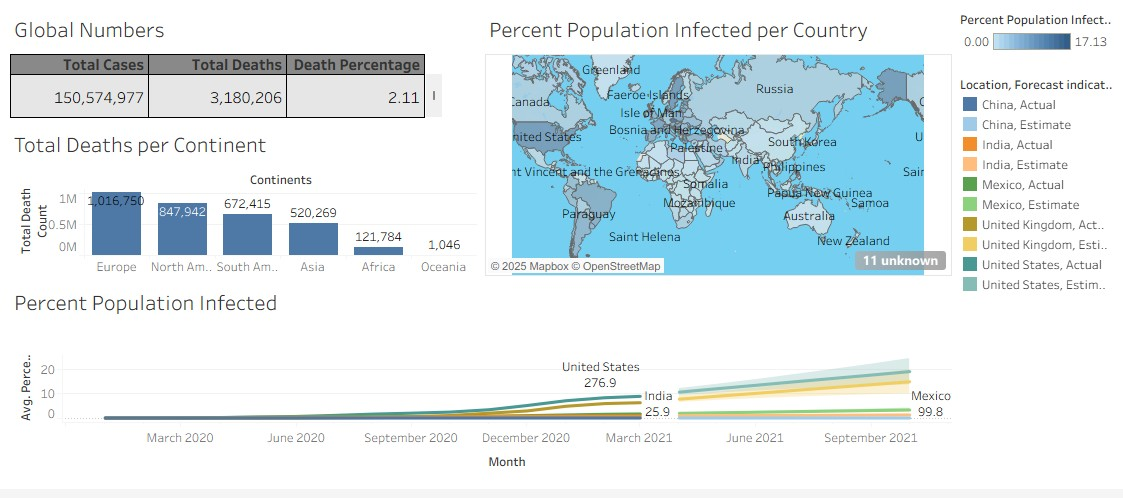

The page's visual inventory and layout, read from the dashboard file:
{"tool":"tableau","page":{"name":"Dashboard 1","canvas":[1000,1000],"units":"permille","ordinal":0},"visuals":[{"type":"worksheet","title":"Sheet 1","mark":"Automatic","box":[6.9,14.7,423.8,235.3]},{"type":"worksheet","title":"Sheet 3","mark":"Multipolygon","box":[430.7,14.7,423.8,558.8]},{"type":"legend","title":"Sheet 3","param":"[federated.0jggjub00u91es17qlxwb16posfy].[sum:PercentPopulationInfected:qk]","box":[854.5,14.7,138.5,119.5]},{"type":"legend","title":"Sheet 4","param":"[federated.1k078gp1vqqpc817vgb420793rjn].[none:Location:nk]\n[federated.1k078gp1v","box":[854.5,134.2,138.5,415.4]},{"type":"worksheet","title":"Sheet 2","mark":"Automatic","rows":["TotalDeathCount"],"cols":["location"],"box":[6.9,250,423.8,323.5]},{"type":"worksheet","title":"Sheet 4","mark":"Automatic","rows":["PercentPopulationInfected"],"cols":["date"],"box":[6.9,573.5,847.6,411.8]}]}

Visuals, with their boxes on the dashboard's canvas, which has no fixed pixel size, in thousandths of its width and height (x1, y1, x2, y2). These are canvas units, not pixel positions in the 1123x498 screenshot, which may show the page scaled, cropped or inside an application window:
"Sheet 1" worksheet: <bbox>7, 15, 431, 250</bbox>
"Sheet 3" worksheet (Multipolygon marks): <bbox>431, 15, 854, 574</bbox>
"Sheet 3" legend: <bbox>854, 15, 993, 134</bbox>
"Sheet 4" legend: <bbox>854, 134, 993, 550</bbox>
"Sheet 2" worksheet: <bbox>7, 250, 431, 574</bbox>
"Sheet 4" worksheet: <bbox>7, 574, 854, 985</bbox>
